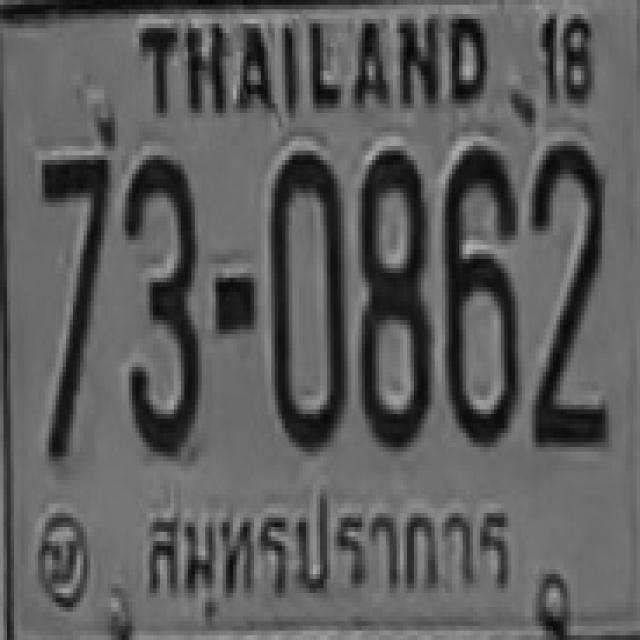0: (268, 151, 344, 447)
2: (529, 139, 605, 407), (532, 179, 605, 442)
3: (122, 153, 198, 454)
6: (442, 142, 515, 442)
7: (38, 155, 108, 447), (38, 156, 108, 410), (38, 155, 108, 381), (38, 155, 108, 358)
8: (358, 148, 428, 445)
SamutPrakan: (137, 479, 524, 600)
